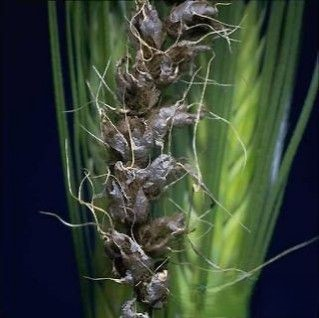Wheat Loose Smut: (83, 1, 217, 298)
